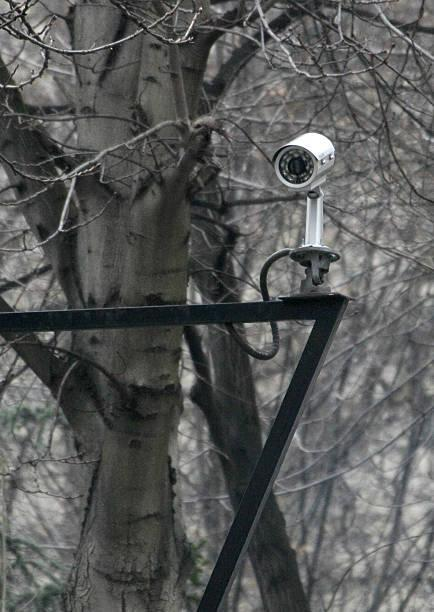camera: (225, 122, 372, 222)
